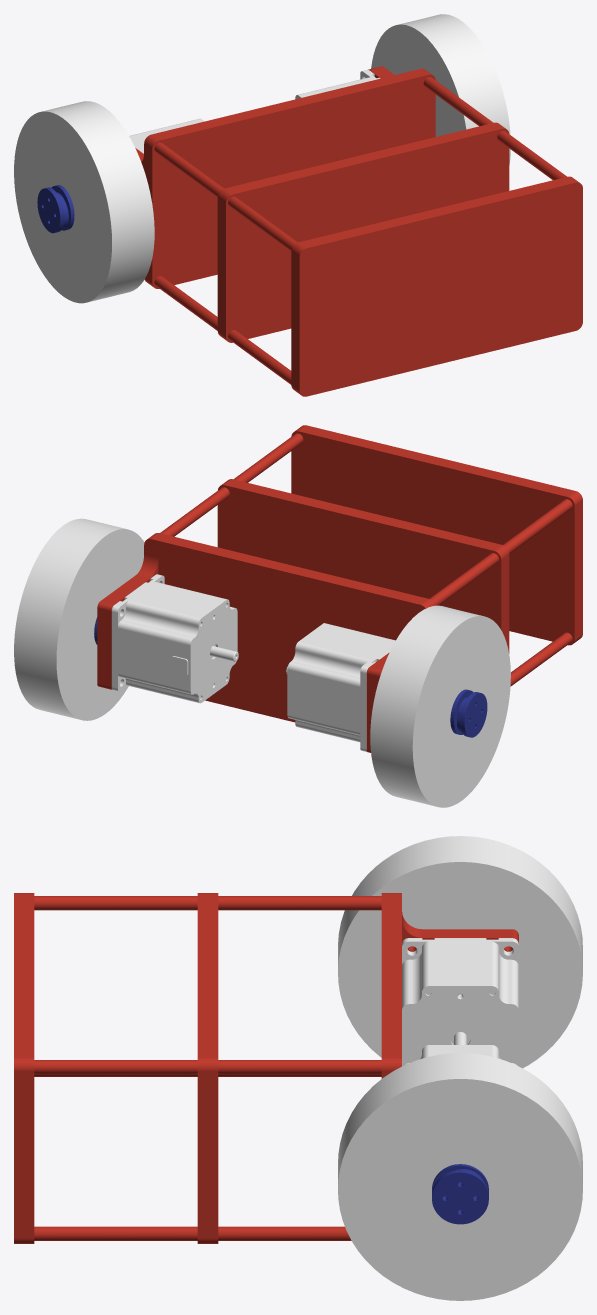
File: balancing_robot v3.fbx
3 views of the same model, one above another, from view 1: azimuth 30°, elevation 25°; view 2: azimuth 150°, elevation 25°; view 3: azimuth 270°, elevation 25° (orthographic). The views are drawn at different scales.
Visible parts, largest first — view 1: base1, Body1 (×4); view 2: base1, Body1 (×5); view 3: Body1 (×5), base1.
Boxes of the visible parts, <box> form: base1: <box>135,66,582,396</box>; Body1 (×4): <box>14,14,510,303</box>; base1: <box>97,425,582,752</box>; Body1 (×5): <box>14,518,510,807</box>; Body1 (×5): <box>338,836,582,1300</box>; base1: <box>14,893,518,1243</box>.
Bounding box in the file's own units: 301 × 120 × 279.
